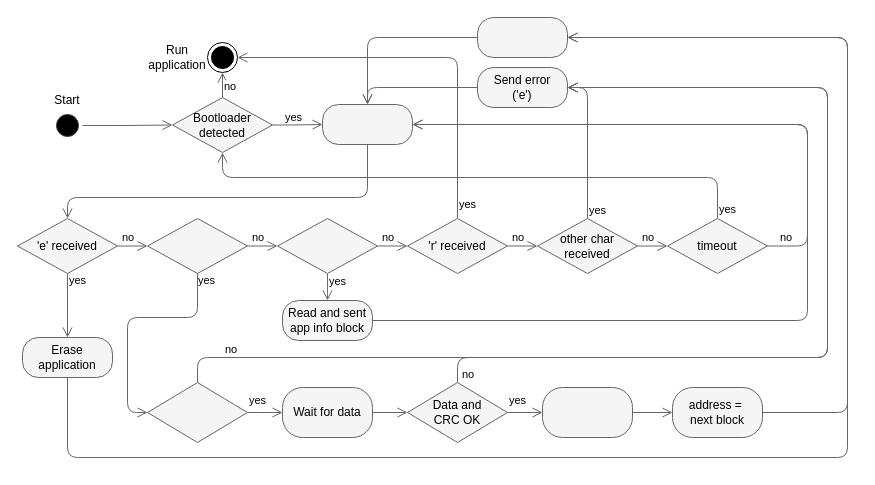
Image size: 875x485. Some labels were removed from this diagram. Each missing label, with the centre of its shape:
'i' received: (x=327, y=246)
'w' received: (x=197, y=246)
Address < Flash end: (x=197, y=412)
Confirm ('o'): (x=522, y=37)
Read char from UART: (x=367, y=124)
Write data block: (x=587, y=412)
